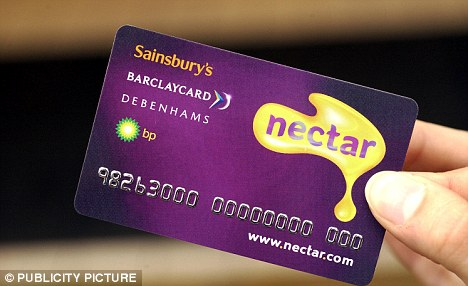tarjeta: (74, 23, 420, 286)
